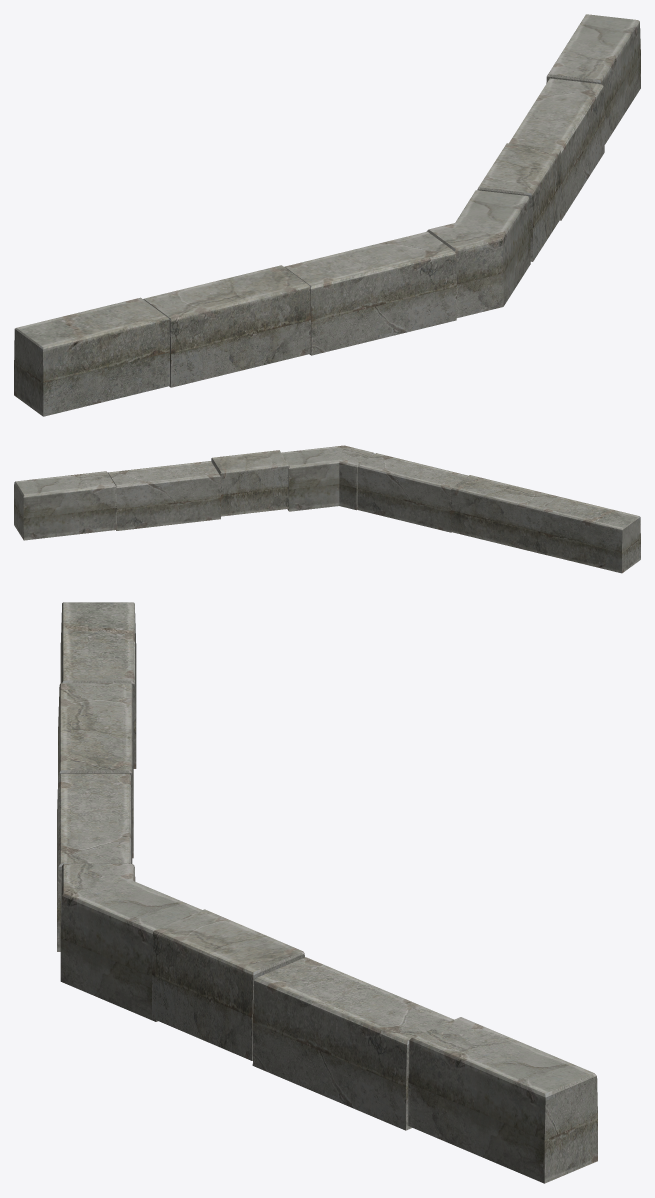
Rendered from bg_lut_lucastle_floorfence05_sm_jjy.FBX.
3 views of the same model, one above another, from view 1: azimuth 30°, elevation 25°; view 2: azimuth 150°, elevation 25°; view 3: azimuth 270°, elevation 25° (orthographic). The views are drawn at different scales.
Parts seen in each view (by area): view 1: bg_lut_lucastle_floorfence05_sm_jjy; view 2: bg_lut_lucastle_floorfence05_sm_jjy; view 3: bg_lut_lucastle_floorfence05_sm_jjy.
Boxes of the visible parts, bbox=[...] form: bg_lut_lucastle_floorfence05_sm_jjy: bbox=[14, 14, 640, 416]; bg_lut_lucastle_floorfence05_sm_jjy: bbox=[14, 445, 640, 573]; bg_lut_lucastle_floorfence05_sm_jjy: bbox=[57, 602, 597, 1183].
Size of the model in its own units: 743 by 65.22 by 344.
